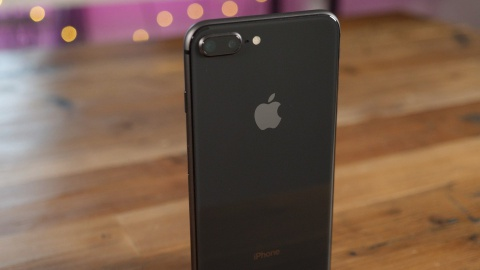apple: (243, 88, 295, 140)
